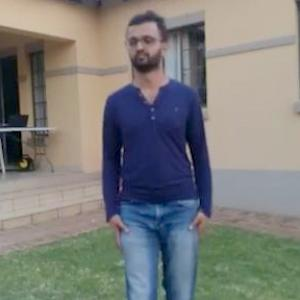follow: (104, 25, 204, 299)
